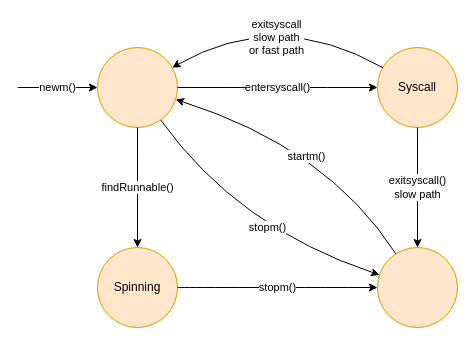
The diagram is 475 pixels wide and 345 high, and some of its shapes have lost their labels. Each missing label, with the centre of its shape:
Running: the point at 137,87
Sleep: the point at 417,287
